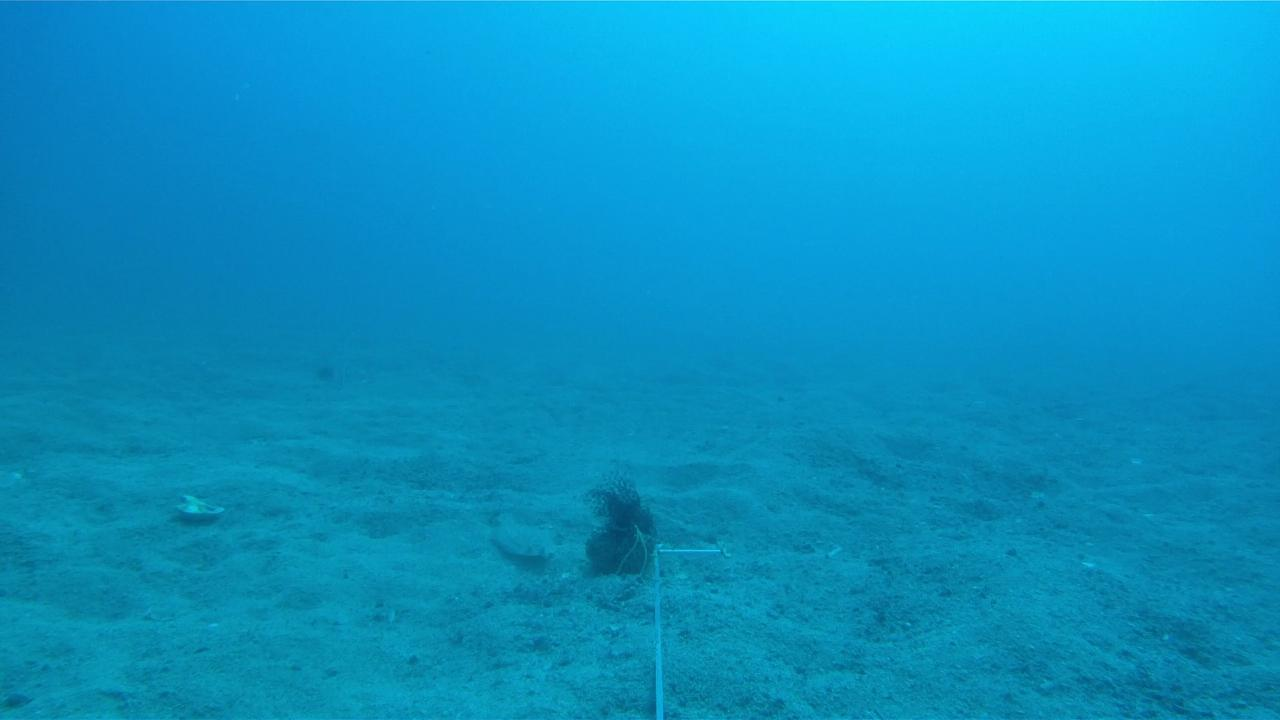bothus: (482, 504, 559, 567)
